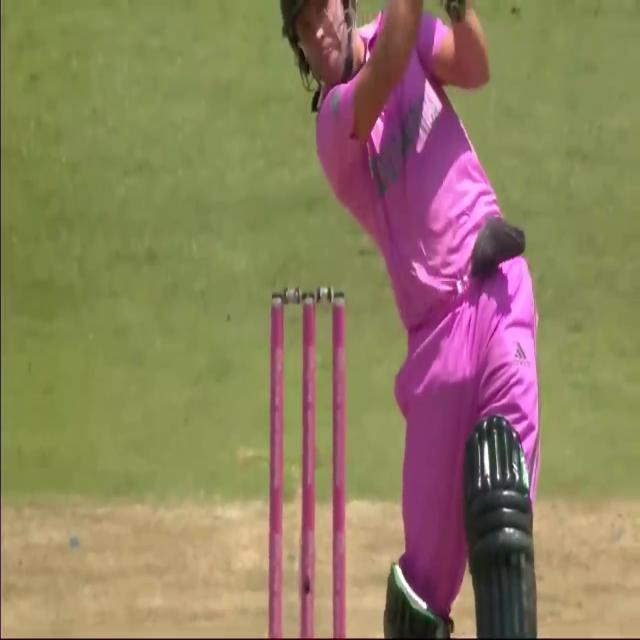Ball: (287, 0, 543, 636)
